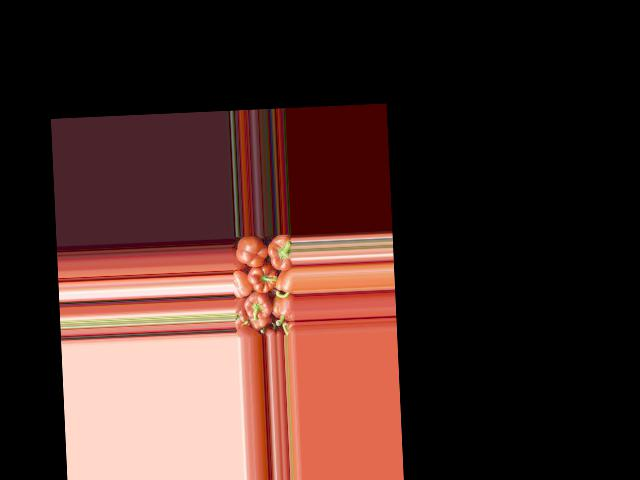bell_pepper: (233, 268, 250, 297)
